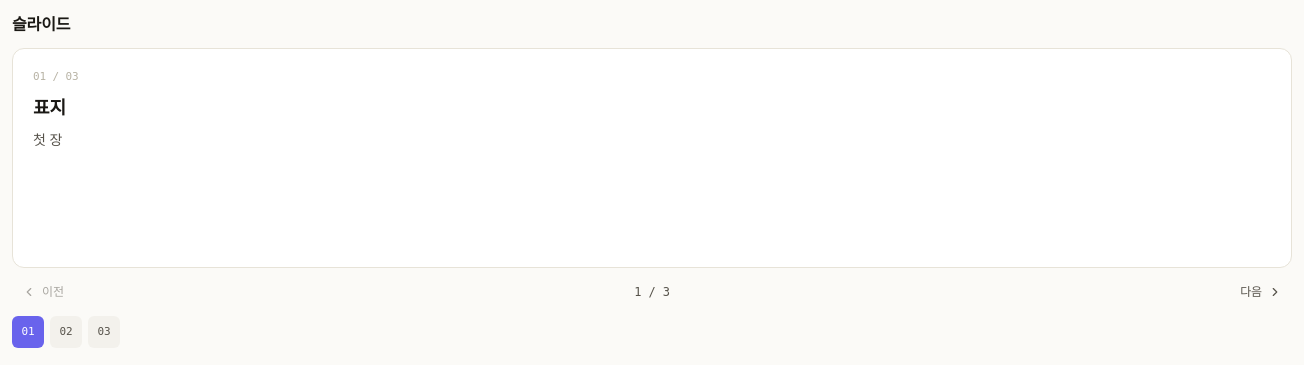
Test: SlideDeck 슬라이드 이동 › 썸네일을 누르면 해당 슬라이드로 점프하고 마지막에선 다음이 비활성이다
The width and height of the screenshot is (1304, 365).
Click the button named "3번 슬라이드". click: (104, 332)
box: [88,316,120,348]
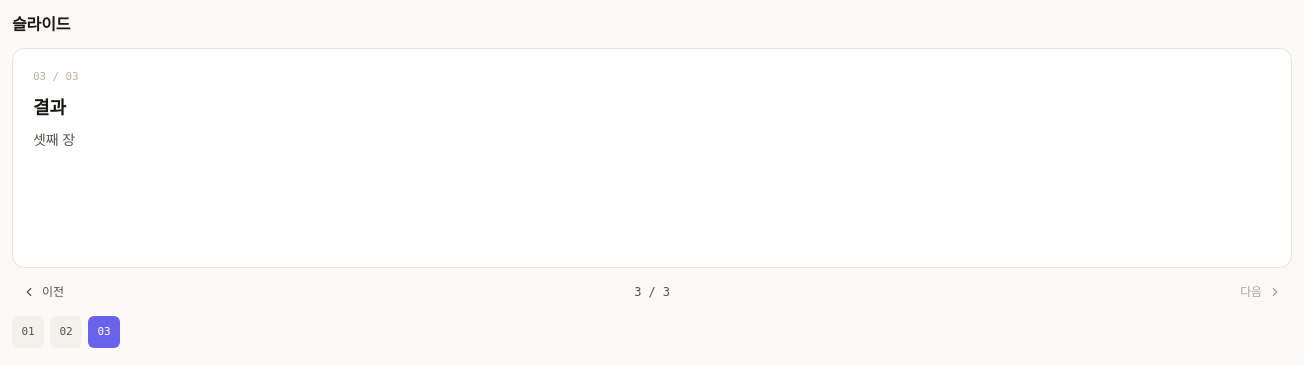
Now the text "셋째 장" is shown, box [33,130,75,148]
Now the button "다음" is disabled, box [1230,280,1292,304]
